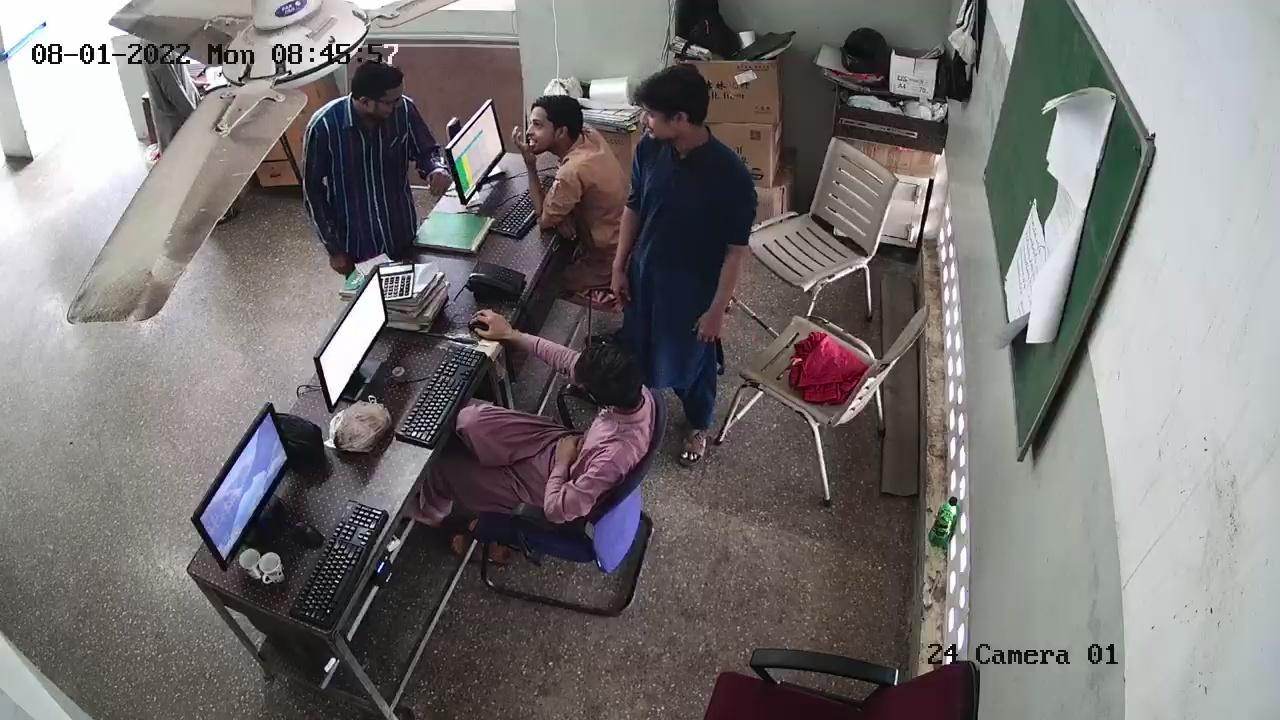person: (626, 67, 734, 462), (457, 347, 652, 515), (307, 55, 424, 272), (521, 83, 630, 270)
